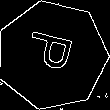P_E: (23, 31, 82, 79)
